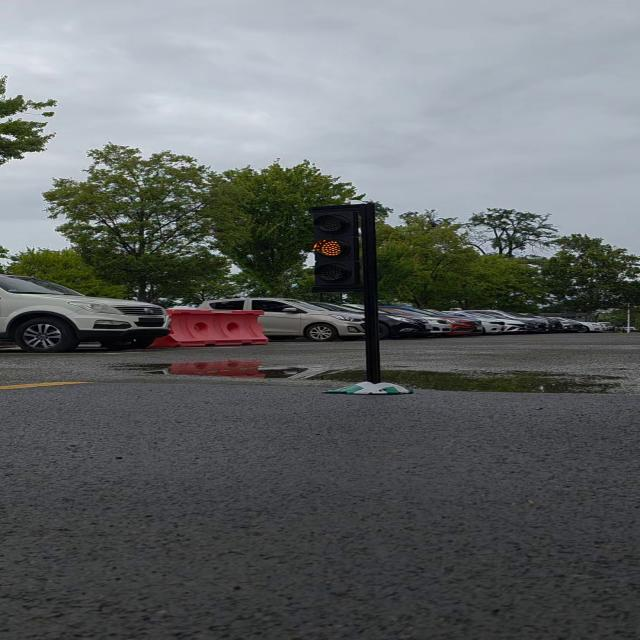yellow: (304, 198, 386, 300)
